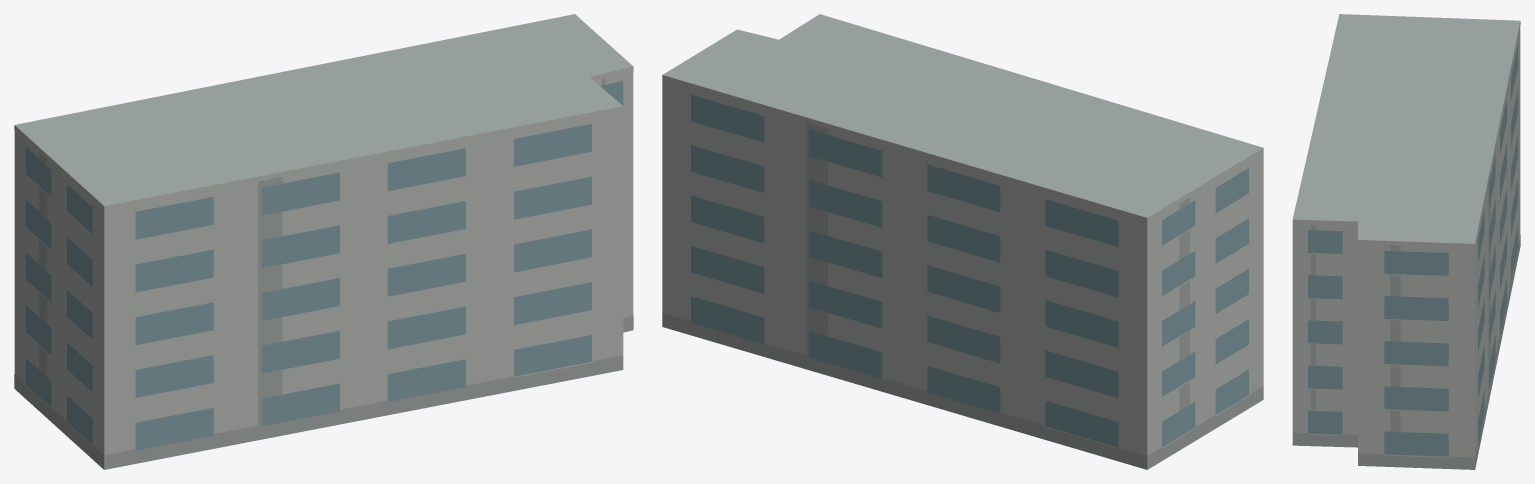
The model's file is survey-upis-32927418.glb.
The picture shows the model from 3 angles, left to right: view 1: azimuth 30°, elevation 25°; view 2: azimuth 150°, elevation 25°; view 3: azimuth 270°, elevation 25°; orthographic projection. The views are drawn at different scales.
Visible parts, largest first — view 1: survey-upis-32927418.tmp; view 2: survey-upis-32927418.tmp; view 3: survey-upis-32927418.tmp.
Boxes of the visible parts, x1=… form: survey-upis-32927418.tmp: x1=14, y1=14, x2=633, y2=469; survey-upis-32927418.tmp: x1=662, y1=14, x2=1263, y2=469; survey-upis-32927418.tmp: x1=1292, y1=14, x2=1520, y2=469.
Bounding box in the file's own units: 27.95 × 12.8 × 11.71.
